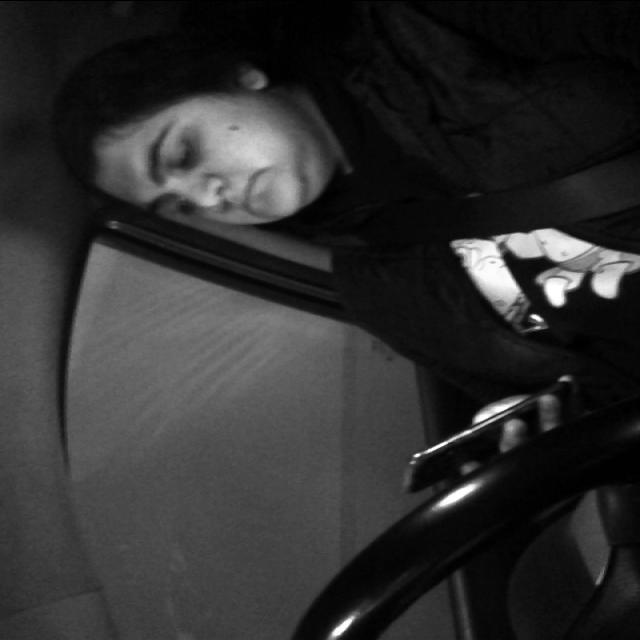mobile use: (400, 382, 580, 488)
